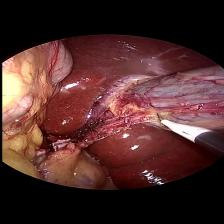Hook: (154, 112, 214, 144)
